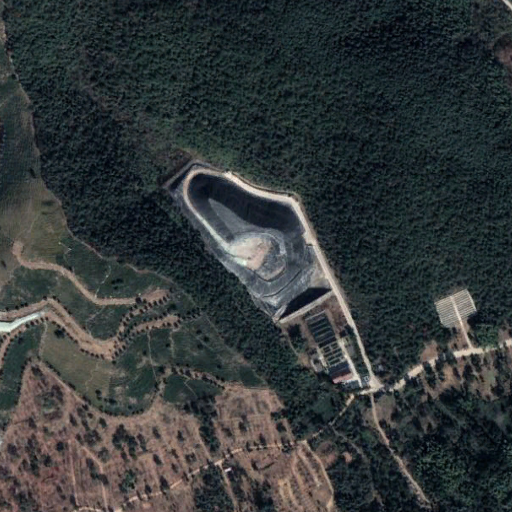lf: (179, 162, 321, 306)
